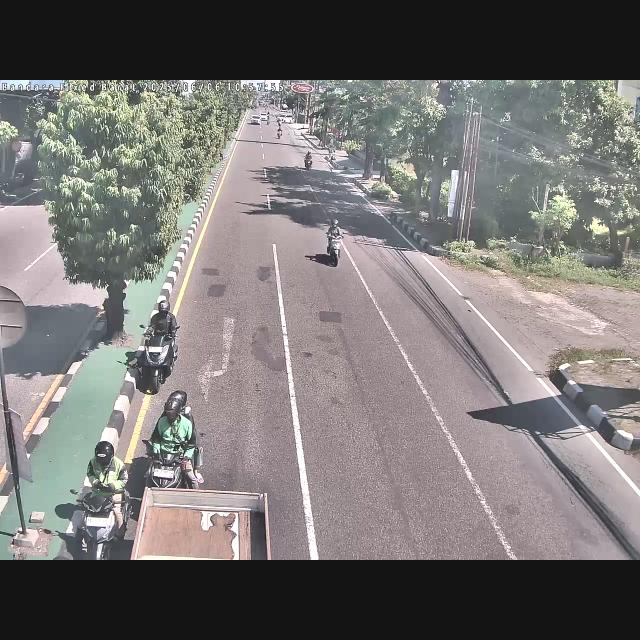Mobil: (128, 482, 278, 560)
Motor: (136, 386, 206, 494), (70, 442, 134, 560), (136, 296, 180, 388), (325, 216, 345, 272)
